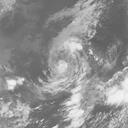cyclone: (43, 39, 89, 97)
